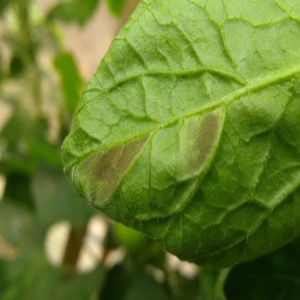cladosporium: (76, 133, 147, 202), (192, 115, 219, 169)
